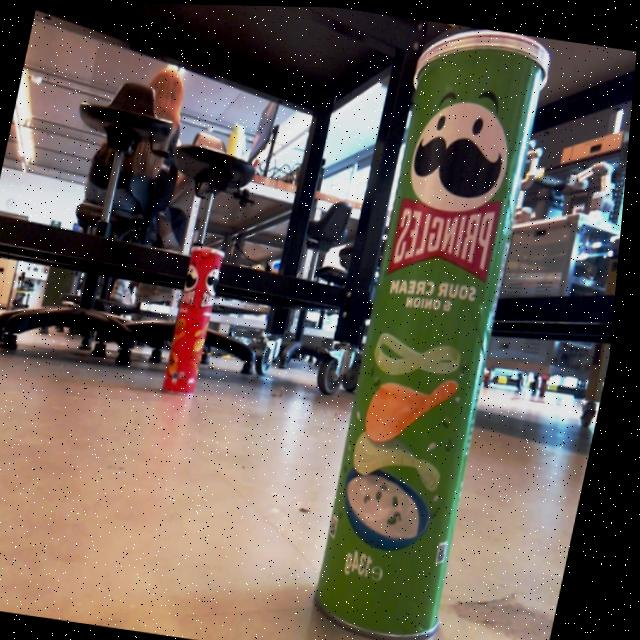greenpringles: (263, 10, 577, 640)
redpringles: (153, 219, 248, 411)
